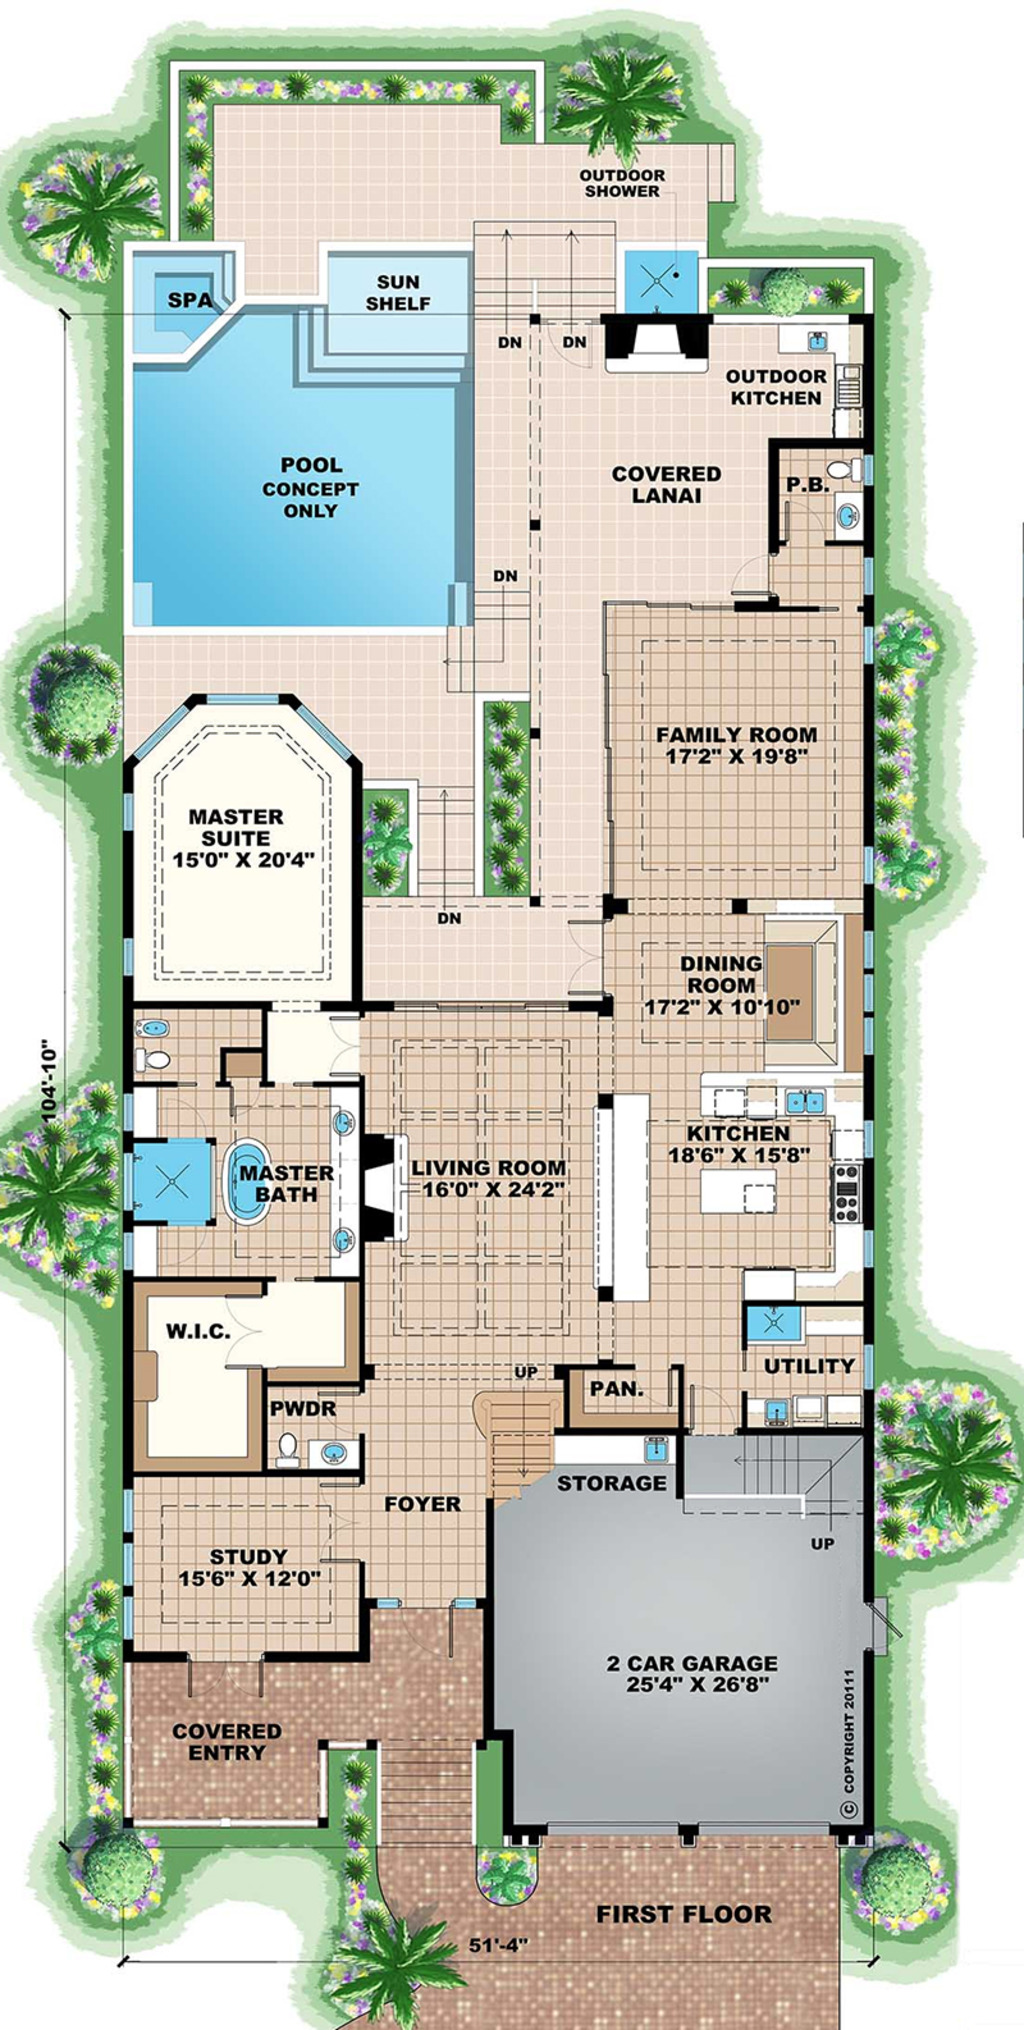stairs: (678, 1427, 858, 1533), (472, 214, 619, 334), (475, 1382, 554, 1507), (451, 586, 537, 693), (415, 786, 481, 927)
